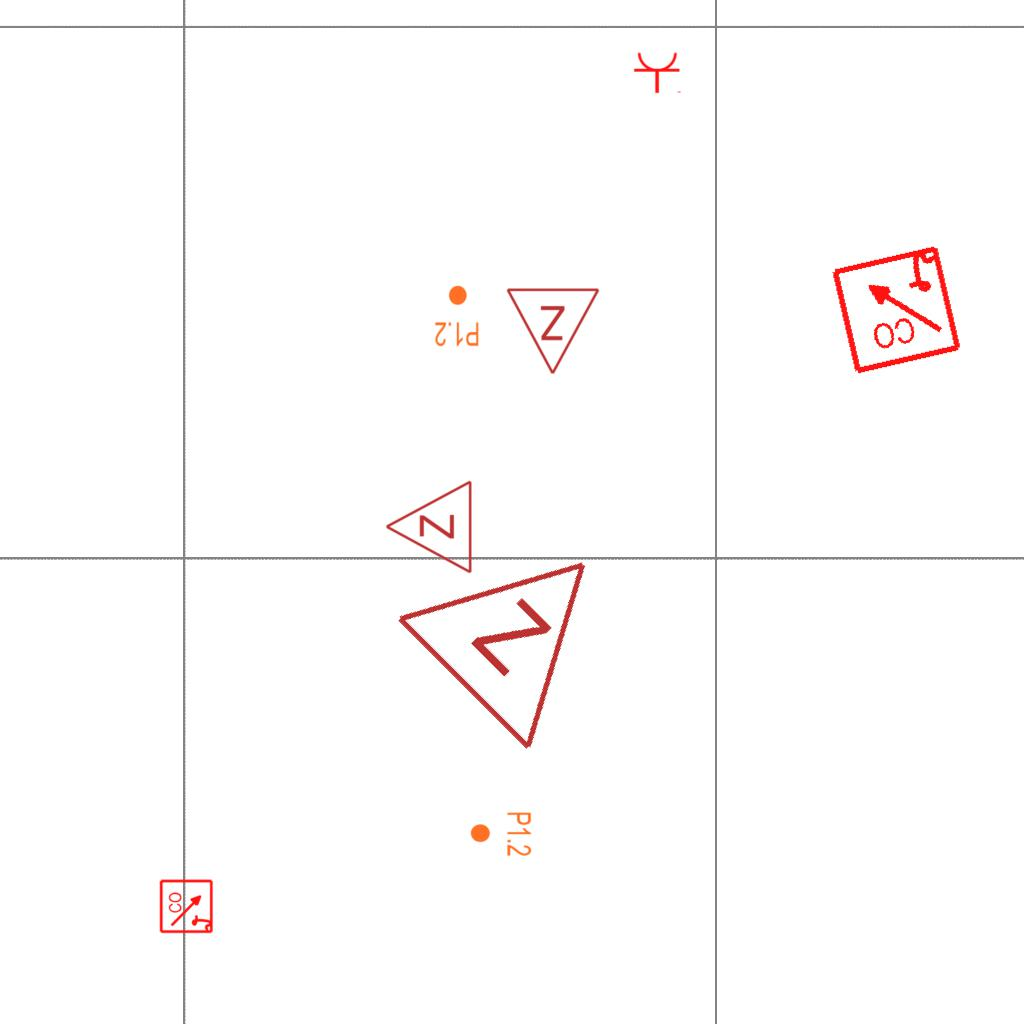Downlight_LED_Einbauleuchten_Flur: (434, 284, 480, 348), (469, 811, 533, 857)
ROA_Rauchmelder_optisch_mit_Signalgeber_(Sockelsirene): (827, 240, 964, 377), (159, 878, 215, 934)
Schukosteckdose_einfach: (633, 51, 683, 94)
Zimmersignalleuchte: (380, 482, 662, 764), (379, 479, 479, 577), (505, 281, 603, 381)
